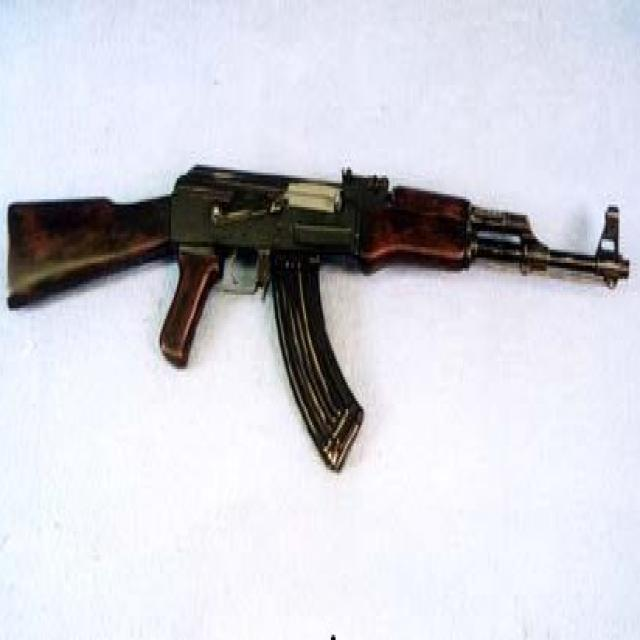Gun: (8, 146, 628, 458)
